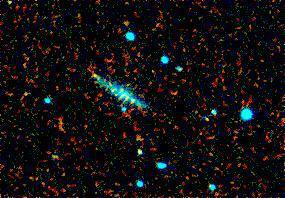star: (78, 59, 108, 89)
